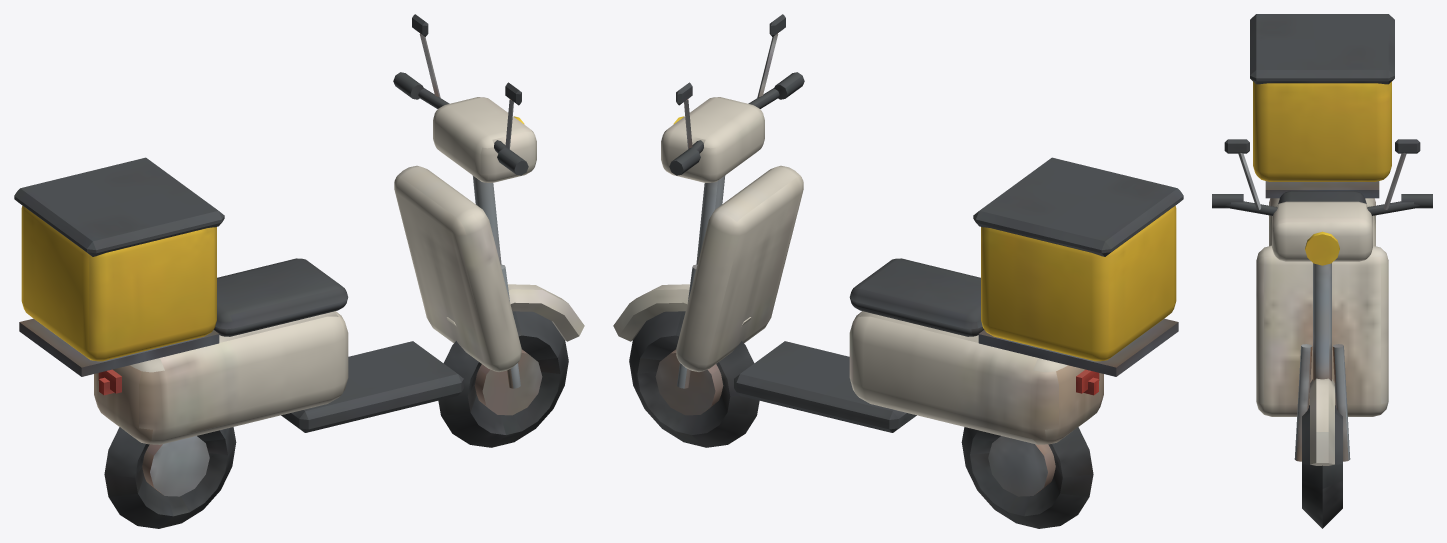
The model's file is scooter_delivery.glb.
3 renders of one model, left to right at view 1: azimuth 30°, elevation 25°; view 2: azimuth 150°, elevation 25°; view 3: azimuth 270°, elevation 25°, orthographic. The views are drawn at different scales.
Parts seen in each view (by area): view 1: scooter_delivery; view 2: scooter_delivery; view 3: scooter_delivery.
Boxes of the visible parts, x1=… form: scooter_delivery: x1=14, y1=14, x2=584, y2=528; scooter_delivery: x1=613, y1=14, x2=1183, y2=528; scooter_delivery: x1=1212, y1=14, x2=1432, y2=528.
Size of the model in its own units: 1.77 by 1.28 by 0.7.
Materials: 6 (6 with a texture image).
